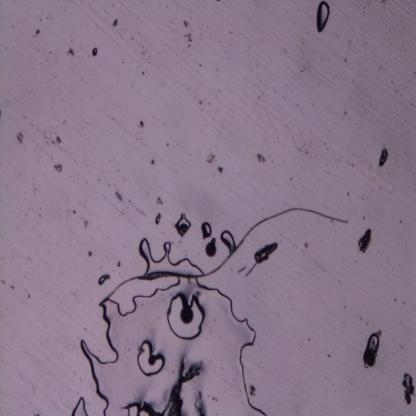Air bubble: (82, 276, 268, 416), (110, 273, 180, 318), (138, 237, 203, 276), (166, 292, 209, 343), (136, 340, 166, 378), (316, 0, 331, 33), (70, 394, 88, 416), (221, 230, 235, 252), (175, 212, 192, 229), (368, 332, 380, 354), (202, 222, 212, 237), (98, 276, 106, 285), (92, 46, 98, 57), (155, 216, 160, 225), (118, 262, 120, 267)
Background material: (402, 372, 416, 404), (356, 229, 372, 254), (363, 348, 378, 370), (194, 390, 206, 416), (245, 262, 257, 277), (379, 148, 387, 167), (206, 151, 216, 164), (15, 131, 24, 145), (113, 190, 123, 202), (249, 382, 256, 398), (179, 224, 189, 235), (256, 153, 266, 163), (184, 31, 192, 43), (112, 16, 119, 28), (237, 266, 246, 274), (138, 119, 145, 129), (34, 28, 41, 38), (156, 197, 164, 205), (302, 240, 310, 248), (54, 164, 62, 172), (66, 48, 74, 56), (184, 20, 191, 29), (56, 135, 62, 145), (376, 330, 383, 338), (217, 166, 224, 174), (283, 48, 290, 55), (105, 272, 110, 281), (212, 396, 218, 403), (150, 159, 156, 166), (140, 210, 146, 217), (88, 250, 93, 258), (84, 219, 88, 228), (33, 187, 37, 195), (347, 40, 352, 46), (32, 385, 35, 395), (26, 292, 31, 298), (297, 147, 302, 153), (42, 134, 48, 139), (1, 279, 6, 284), (72, 209, 77, 214), (52, 141, 57, 146), (380, 0, 386, 4), (38, 212, 42, 218), (198, 99, 202, 105), (140, 51, 146, 55), (256, 63, 260, 68), (10, 286, 15, 290), (199, 62, 203, 67), (130, 35, 134, 40), (344, 111, 348, 116), (62, 120, 66, 125), (340, 115, 344, 120), (369, 102, 373, 107), (350, 162, 354, 167), (148, 55, 152, 60), (344, 58, 347, 64), (344, 304, 347, 310), (347, 191, 350, 197), (34, 413, 40, 416), (142, 70, 145, 76), (0, 109, 2, 118), (282, 96, 286, 100), (42, 130, 46, 134), (359, 317, 363, 321), (394, 298, 398, 302), (121, 211, 125, 215), (166, 143, 170, 147), (362, 216, 366, 220), (158, 214, 162, 218), (209, 330, 213, 334), (168, 352, 172, 356), (368, 168, 372, 172), (257, 96, 261, 100), (296, 102, 299, 107), (214, 318, 217, 323), (327, 353, 330, 358), (273, 89, 276, 94), (301, 51, 304, 55), (330, 141, 333, 145), (289, 176, 292, 180), (365, 321, 368, 325), (200, 34, 204, 37), (215, 94, 218, 98), (402, 302, 405, 306), (399, 220, 402, 224), (330, 151, 333, 155), (308, 338, 311, 342), (39, 18, 42, 22), (84, 326, 87, 330), (413, 71, 416, 75), (276, 136, 279, 140), (363, 6, 366, 10), (396, 90, 399, 94), (401, 345, 404, 349), (161, 232, 165, 235), (229, 30, 232, 34), (23, 116, 27, 119), (188, 43, 190, 48), (128, 199, 131, 202), (216, 109, 219, 112), (218, 89, 221, 92), (305, 151, 308, 154), (97, 179, 100, 182), (207, 102, 210, 105), (379, 66, 382, 69), (411, 103, 414, 106), (352, 80, 355, 83), (114, 170, 117, 173), (230, 43, 232, 47), (232, 31, 234, 35), (262, 92, 264, 96), (288, 65, 290, 69), (300, 70, 304, 72), (258, 53, 260, 57), (335, 158, 337, 162), (216, 0, 220, 2), (324, 142, 326, 146), (40, 206, 42, 210), (36, 128, 38, 132), (327, 148, 329, 152), (392, 80, 394, 84), (86, 180, 88, 184), (50, 51, 52, 55), (292, 135, 294, 139), (405, 150, 407, 154), (360, 56, 363, 58), (364, 42, 366, 45), (115, 121, 117, 124), (111, 118, 114, 120), (243, 77, 246, 79), (175, 365, 178, 367), (172, 371, 175, 373), (108, 184, 110, 187), (205, 337, 207, 340), (362, 12, 365, 14), (404, 49, 406, 52), (399, 322, 402, 324), (234, 379, 236, 382), (283, 160, 285, 163), (374, 107, 376, 110), (395, 57, 397, 60), (136, 208, 138, 211), (285, 125, 288, 127), (117, 169, 120, 171), (248, 46, 251, 48), (215, 69, 218, 71), (302, 159, 304, 161), (400, 15, 402, 17), (368, 3, 370, 5), (122, 28, 124, 30), (219, 40, 221, 42), (222, 46, 224, 48), (347, 164, 349, 166), (261, 39, 263, 41), (326, 152, 328, 154), (327, 172, 329, 174), (389, 30, 391, 32), (50, 137, 52, 139), (326, 163, 328, 165), (100, 172, 102, 174), (402, 46, 404, 48), (384, 11, 386, 13), (404, 87, 406, 89), (388, 173, 390, 175), (238, 371, 239, 375), (294, 140, 295, 143), (280, 54, 281, 56), (310, 146, 311, 148), (122, 62, 124, 63), (396, 160, 397, 162), (371, 166, 372, 168), (362, 197, 363, 199), (284, 145, 285, 147), (405, 11, 407, 12), (105, 198, 106, 200), (119, 32, 120, 34)
Cellulose filter fibre: (123, 357, 202, 416)
Diatom: (253, 240, 278, 264), (178, 306, 196, 324), (205, 242, 216, 257), (147, 357, 156, 366)
Microfibre: (107, 206, 351, 300)
